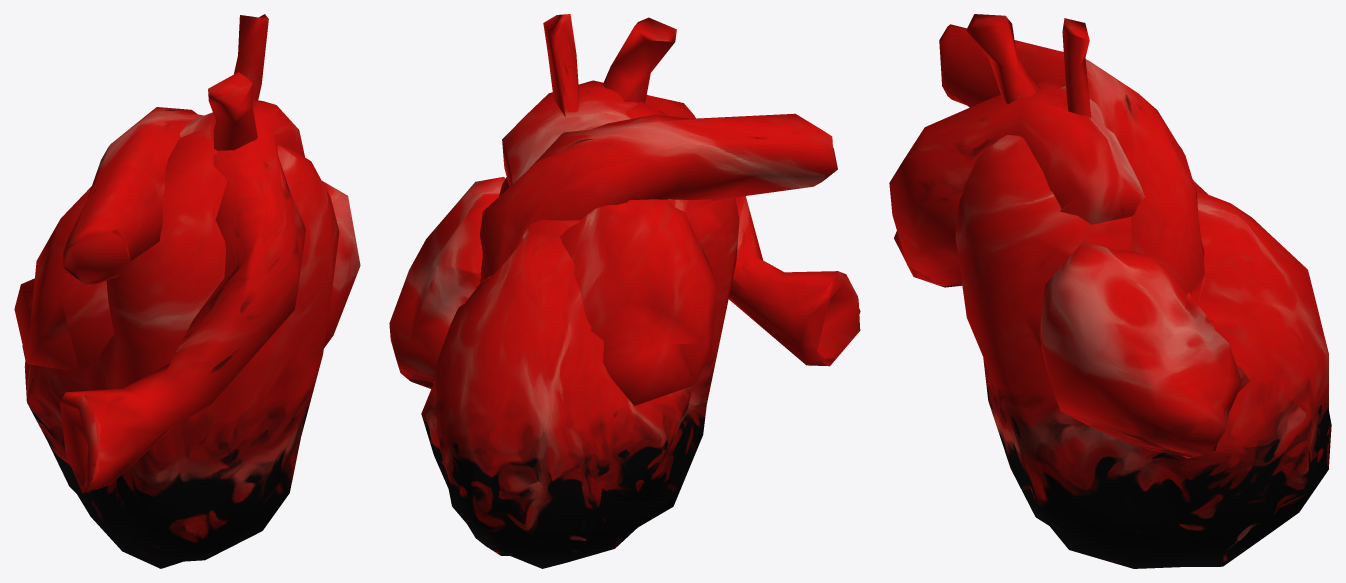
The model's file is heart.glb.
3 views of the same model, side by side, from view 1: azimuth 30°, elevation 25°; view 2: azimuth 150°, elevation 25°; view 3: azimuth 270°, elevation 25° (orthographic). The views are drawn at different scales.
Parts seen in each view (by area): view 1: Heart_lowpoly.002; view 2: Heart_lowpoly.002; view 3: Heart_lowpoly.002.
Boxes of the visible parts, x1,y1,x2,y2 form: Heart_lowpoly.002: [14, 14, 360, 568]; Heart_lowpoly.002: [389, 14, 860, 568]; Heart_lowpoly.002: [889, 14, 1331, 568].
Bounding box in the file's own units: 0.7172 × 0.9749 × 0.6996.
1 material, 1 textured.
